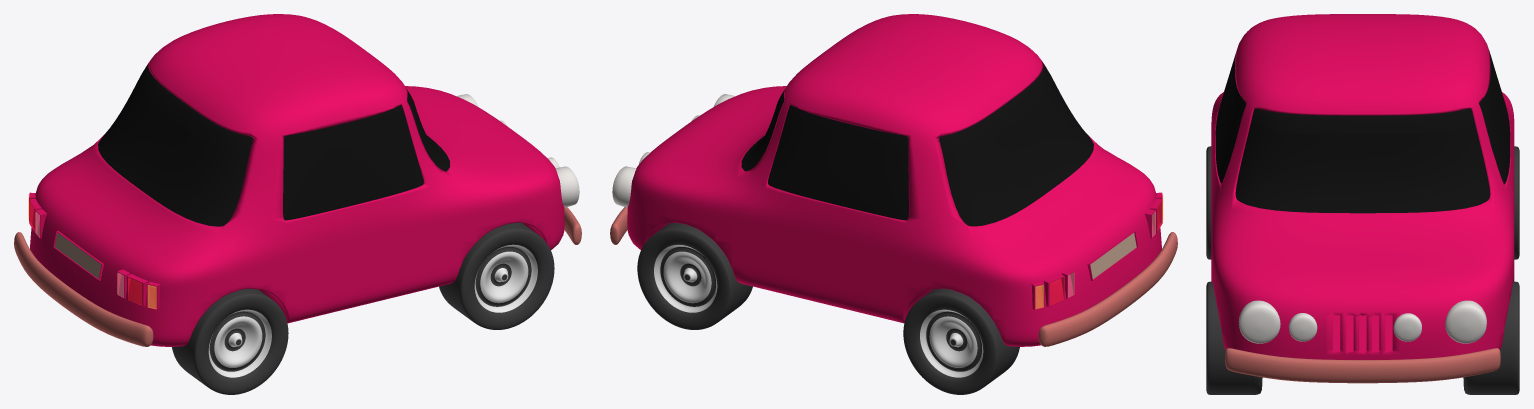
Rendered from toy_car_sm.glb.
The picture shows the model from 3 angles, left to right: view 1: azimuth 30°, elevation 25°; view 2: azimuth 150°, elevation 25°; view 3: azimuth 270°, elevation 25°; orthographic projection. The views are drawn at different scales.
Parts seen in each view (by area): view 1: Sphere.001; view 2: Sphere.001; view 3: Sphere.001.
Boxes of the visible parts, x1,y1,x2,y2 form: Sphere.001: (14, 14, 581, 394); Sphere.001: (610, 14, 1177, 394); Sphere.001: (1206, 14, 1519, 394).
Size of the model in its own units: 0.4772 by 0.2522 by 0.2629.
